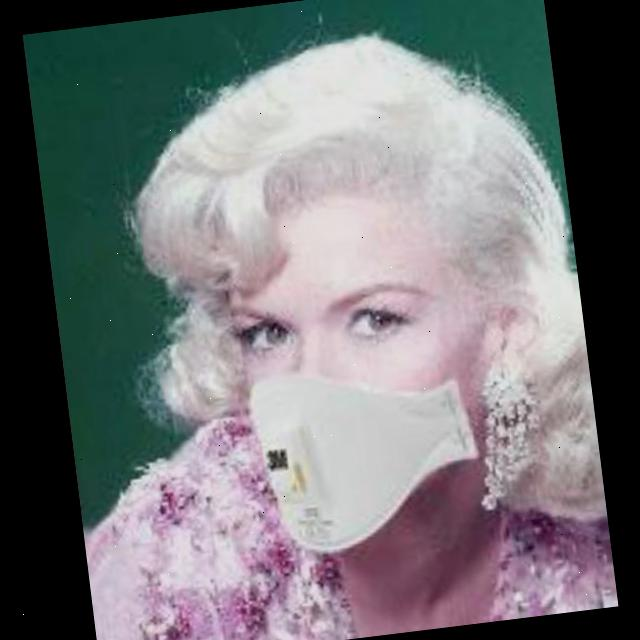suspicion: (211, 155, 522, 540)
